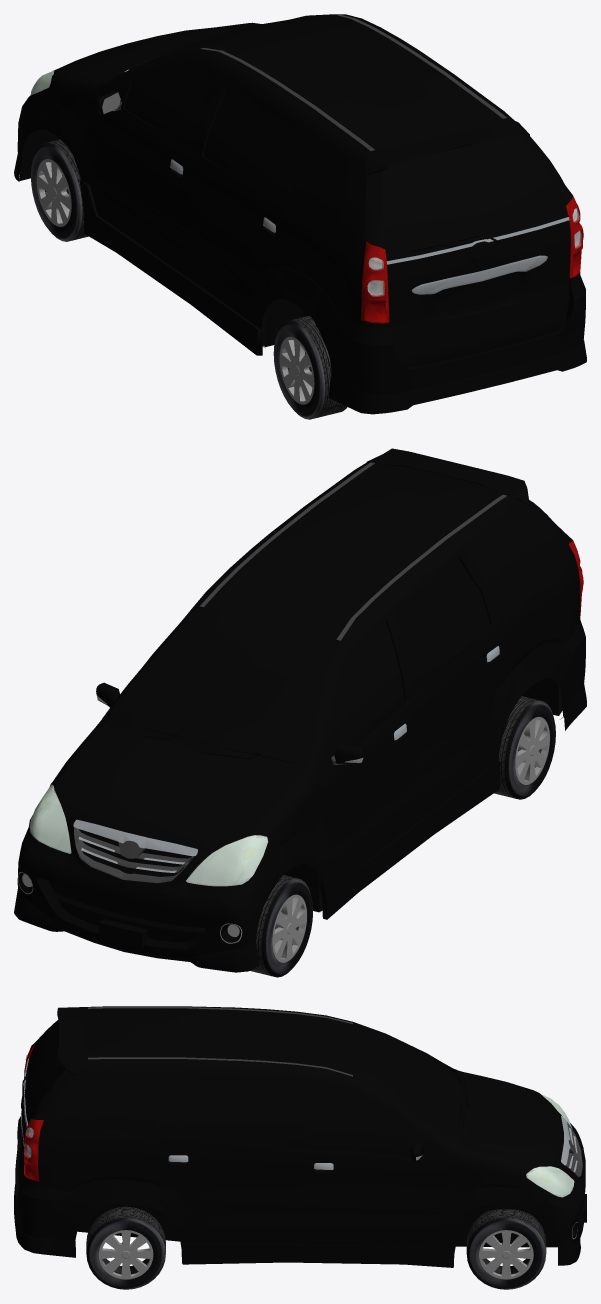
The model's file is poor_model_09_aznava_1.5_s.glb.
3 views of the same model, one above another, from view 1: azimuth 30°, elevation 25°; view 2: azimuth 150°, elevation 25°; view 3: azimuth 270°, elevation 25° (orthographic). The views are drawn at different scales.
Parts seen in each view (by area): view 1: Plane.004_1, Plane.045_39, Plane.015_42, Plane.019_17, Plane.017_15, Plane.022_20, Plane.033_27, Plane.089_81, Plane.034_28, Plane.023_21, Plane.085_80, Plane.013_13 (+19 smaller); view 2: Plane.004_1, Plane.001_6, Plane.060_83, Plane.002_5, Plane.019_17, Plane.017_15, Plane.033_27, Plane.023_21, Plane.034_28, Plane.089_81, Plane.013_13, Plane.054_86 (+16 smaller); view 3: Plane.004_1, Plane.019_17, Plane.017_15, Plane.033_27, Plane.001_6, Plane.060_83, Plane.023_21, Plane.034_28, Plane.089_81, Plane.013_13, Plane.025_62, Plane.067_59 (+16 smaller).
Boxes of the visible parts, bbox=[...] form: Plane.004_1: bbox=[102, 14, 570, 348]; Plane.045_39: bbox=[387, 220, 570, 368]; Plane.015_42: bbox=[381, 134, 568, 260]; Plane.019_17: bbox=[185, 155, 287, 321]; Plane.017_15: bbox=[93, 109, 195, 276]; Plane.022_20: bbox=[316, 267, 585, 395]; Plane.033_27: bbox=[203, 81, 295, 200]; Plane.089_81: bbox=[79, 180, 263, 355]; Plane.034_28: bbox=[124, 63, 221, 148]; Plane.023_21: bbox=[30, 70, 113, 218]; Plane.085_80: bbox=[328, 340, 586, 414]; Plane.013_13: bbox=[291, 125, 348, 227]; Plane.004_1: bbox=[112, 462, 580, 881]; Plane.001_6: bbox=[106, 606, 340, 771]; Plane.060_83: bbox=[54, 726, 298, 857]; Plane.002_5: bbox=[14, 820, 276, 972]; Plane.019_17: bbox=[412, 619, 510, 816]; Plane.017_15: bbox=[321, 698, 423, 883]; Plane.033_27: bbox=[393, 558, 490, 688]; Plane.023_21: bbox=[30, 705, 339, 911]; Plane.034_28: bbox=[330, 620, 404, 749]; Plane.089_81: bbox=[317, 761, 500, 919]; Plane.013_13: bbox=[467, 517, 546, 613]; Plane.054_86: bbox=[29, 784, 268, 886]; Plane.004_1: bbox=[38, 1006, 442, 1253]; Plane.019_17: bbox=[151, 1076, 301, 1243]; Plane.017_15: bbox=[297, 1078, 447, 1245]; Plane.033_27: bbox=[172, 1075, 290, 1145]; Plane.001_6: bbox=[353, 1023, 465, 1145]; Plane.060_83: bbox=[459, 1072, 564, 1169]; Plane.023_21: bbox=[429, 1063, 552, 1246]; Plane.034_28: bbox=[299, 1081, 414, 1152]; Plane.089_81: bbox=[180, 1228, 461, 1267]; Plane.013_13: bbox=[78, 1072, 172, 1137]; Plane.025_62: bbox=[86, 1206, 165, 1289]; Plane.067_59: bbox=[466, 1209, 546, 1289].
Bounding box in the file's own units: 1.54 × 1.5 × 3.64.
26 materials, 2 textured.
